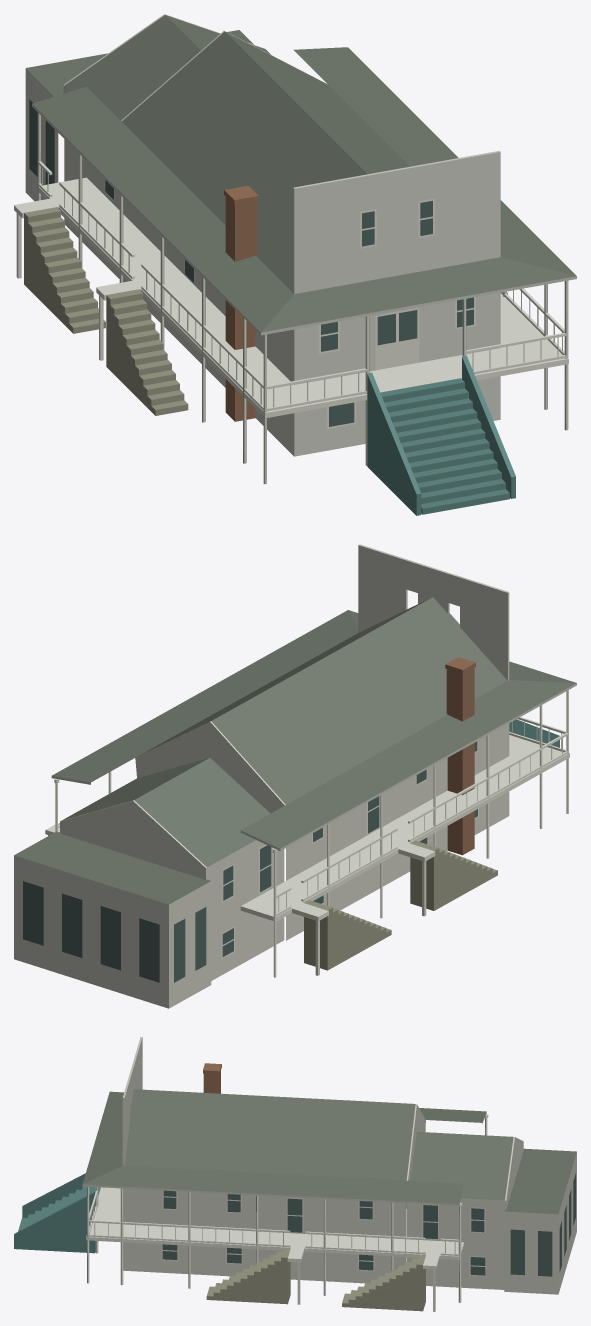
Rendered from gur-sikh-temple-far.glb.
The picture shows the model from 3 angles, top to bottom: view 1: azimuth 30°, elevation 25°; view 2: azimuth 150°, elevation 25°; view 3: azimuth 270°, elevation 25°; orthographic projection. The views are drawn at different scales.
Parts seen in each view (by area): view 1: gur-sikh-temple-0-roof, gur-sikh-temple-0-stone, gur-sikh-temple-0-trim, gur-sikh-temple-0-stairs, gur-sikh-temple-0-wood, gur-sikh-temple-0-glass, gur-sikh-temple-0-brick, gur-sikh-temple-0-soffit; view 2: gur-sikh-temple-0-roof, gur-sikh-temple-0-stone, gur-sikh-temple-0-trim, gur-sikh-temple-0-glass, gur-sikh-temple-0-wood, gur-sikh-temple-0-brick, gur-sikh-temple-0-soffit, gur-sikh-temple-0-stairs; view 3: gur-sikh-temple-0-roof, gur-sikh-temple-0-stone, gur-sikh-temple-0-trim, gur-sikh-temple-0-wood, gur-sikh-temple-0-glass, gur-sikh-temple-0-stairs, gur-sikh-temple-0-soffit, gur-sikh-temple-0-brick.
Boxes of the visible parts, bbox=[...] form: gur-sikh-temple-0-roof: bbox=[26, 15, 576, 332]; gur-sikh-temple-0-stone: bbox=[25, 14, 500, 456]; gur-sikh-temple-0-trim: bbox=[14, 112, 568, 484]; gur-sikh-temple-0-stairs: bbox=[367, 355, 515, 515]; gur-sikh-temple-0-wood: bbox=[24, 207, 507, 415]; gur-sikh-temple-0-glass: bbox=[29, 99, 473, 426]; gur-sikh-temple-0-brick: bbox=[224, 185, 258, 421]; gur-sikh-temple-0-soffit: bbox=[32, 104, 576, 335]; gur-sikh-temple-0-roof: bbox=[14, 597, 576, 904]; gur-sikh-temple-0-stone: bbox=[14, 544, 509, 1008]; gur-sikh-temple-0-trim: bbox=[45, 690, 569, 977]; gur-sikh-temple-0-glass: bbox=[23, 741, 477, 982]; gur-sikh-temple-0-wood: bbox=[58, 823, 497, 970]; gur-sikh-temple-0-brick: bbox=[445, 657, 475, 855]; gur-sikh-temple-0-soffit: bbox=[51, 683, 576, 851]; gur-sikh-temple-0-stairs: bbox=[509, 719, 559, 747]; gur-sikh-temple-0-roof: bbox=[82, 1089, 576, 1214]; gur-sikh-temple-0-stone: bbox=[122, 1037, 576, 1294]; gur-sikh-temple-0-trim: bbox=[86, 1114, 488, 1311]; gur-sikh-temple-0-wood: bbox=[206, 1203, 425, 1311]; gur-sikh-temple-0-glass: bbox=[162, 1173, 575, 1276]; gur-sikh-temple-0-stairs: bbox=[14, 1173, 100, 1253]; gur-sikh-temple-0-soffit: bbox=[82, 1112, 486, 1205]; gur-sikh-temple-0-brick: bbox=[203, 1063, 221, 1093].
Size of the model in its own units: 16.98 by 11.2 by 33.05.
